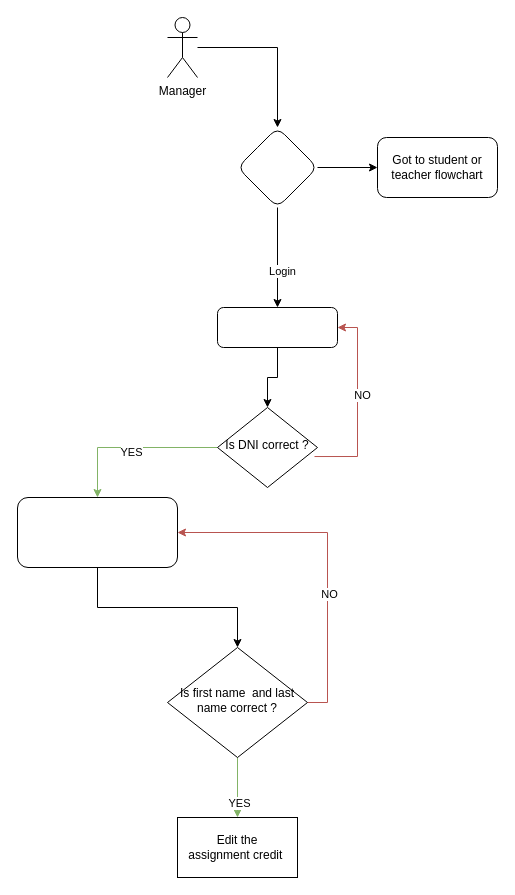
The diagram is 515 pixels wide and 895 high, and some of its shapes have lost their labels. Here are the shapes that lost their labels. From the top down, the centre of each, then its label:
At (277,167): "Login or Register".
At (277,327): "What is your DNI ?".
At (97,532): "What is your First name ? What is your last name ?".
